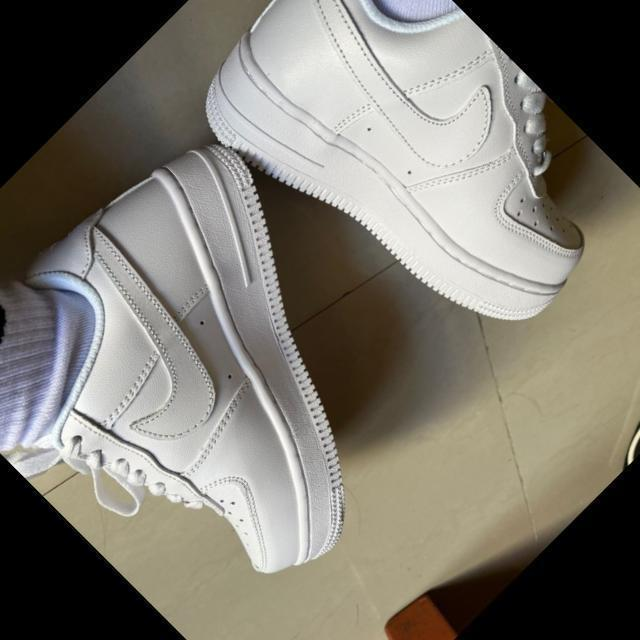nike original air force: (0, 99, 483, 640), (165, 0, 640, 390)
